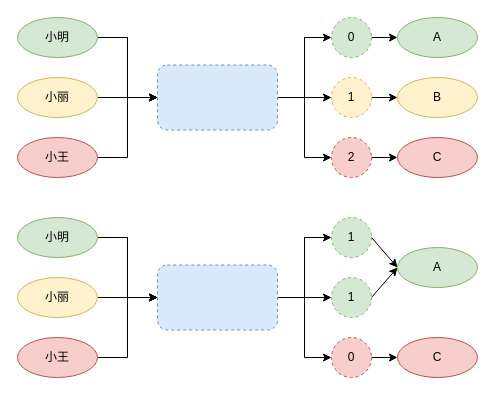
This 495x395 diagram has some shape labels left out. Here are the shapes that lost their labels. From the top down, the centre of each, then its label:
[217,97]: hash(name) % 3
[217,297]: hash(name) % 2
